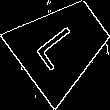L_NE: (34, 18, 90, 73)
